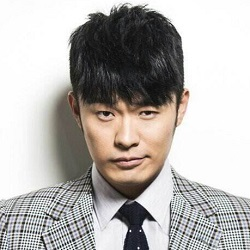unmask: (71, 70, 180, 187)
